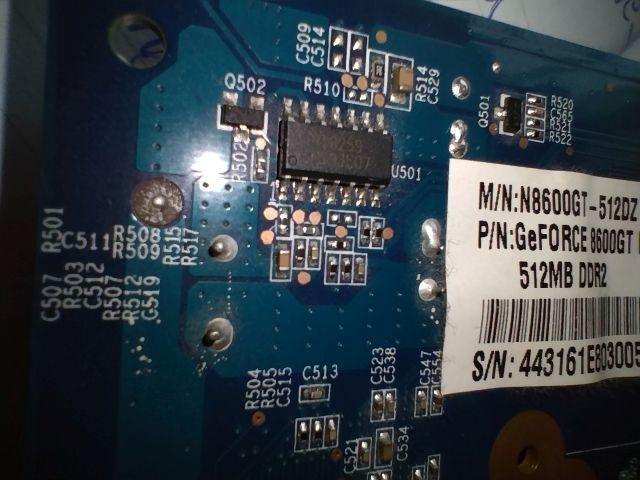capacitor: (270, 237, 295, 284), (295, 379, 336, 407), (372, 429, 398, 469), (368, 387, 385, 425)
resistor: (293, 416, 312, 455), (523, 89, 553, 113), (520, 127, 553, 143)
